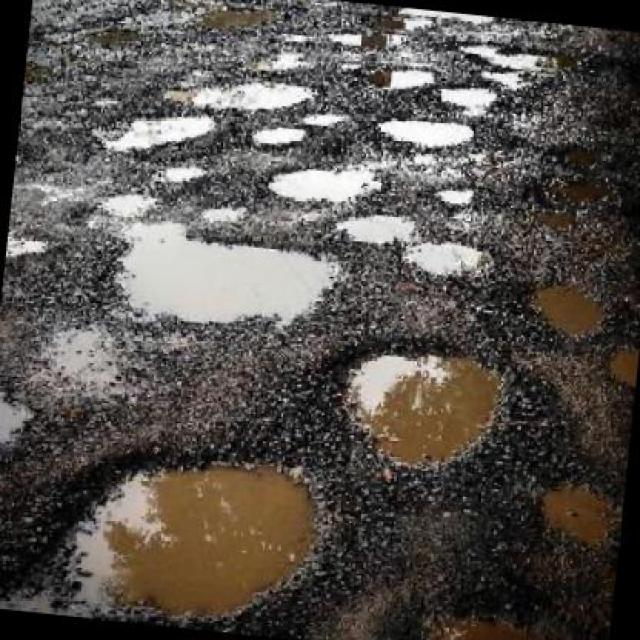pothole1: (36, 430, 333, 635), (93, 216, 352, 346), (330, 331, 510, 474), (374, 568, 594, 638), (516, 456, 624, 552), (161, 62, 322, 120), (94, 100, 221, 157), (516, 268, 612, 341), (448, 34, 568, 91), (261, 150, 385, 204), (394, 232, 498, 285), (371, 105, 472, 149), (328, 204, 419, 247), (0, 386, 46, 462), (358, 58, 445, 92), (436, 79, 502, 110), (248, 120, 304, 149), (601, 339, 637, 381), (433, 179, 476, 207)
